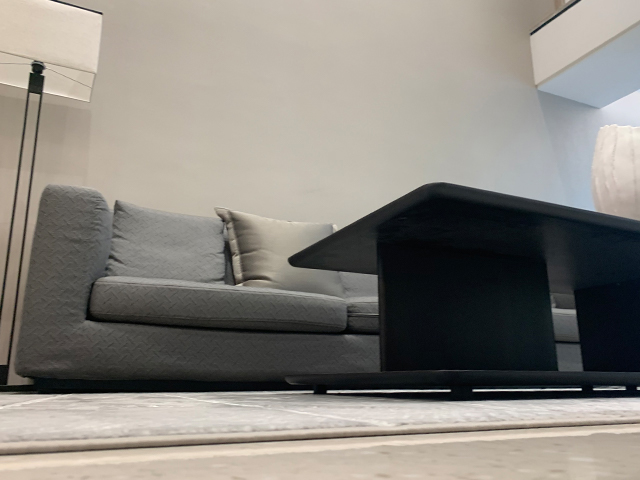carpet: (1, 389, 640, 458)
sofa: (13, 184, 379, 390)
table: (285, 180, 640, 397)
